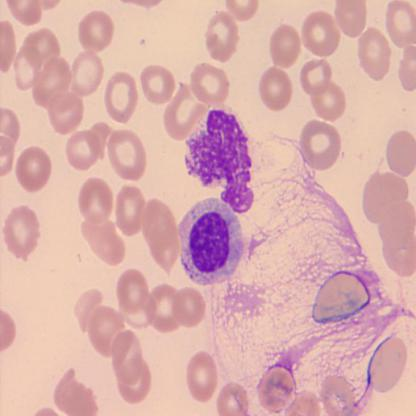Myelocyte: (176, 196, 246, 285)
